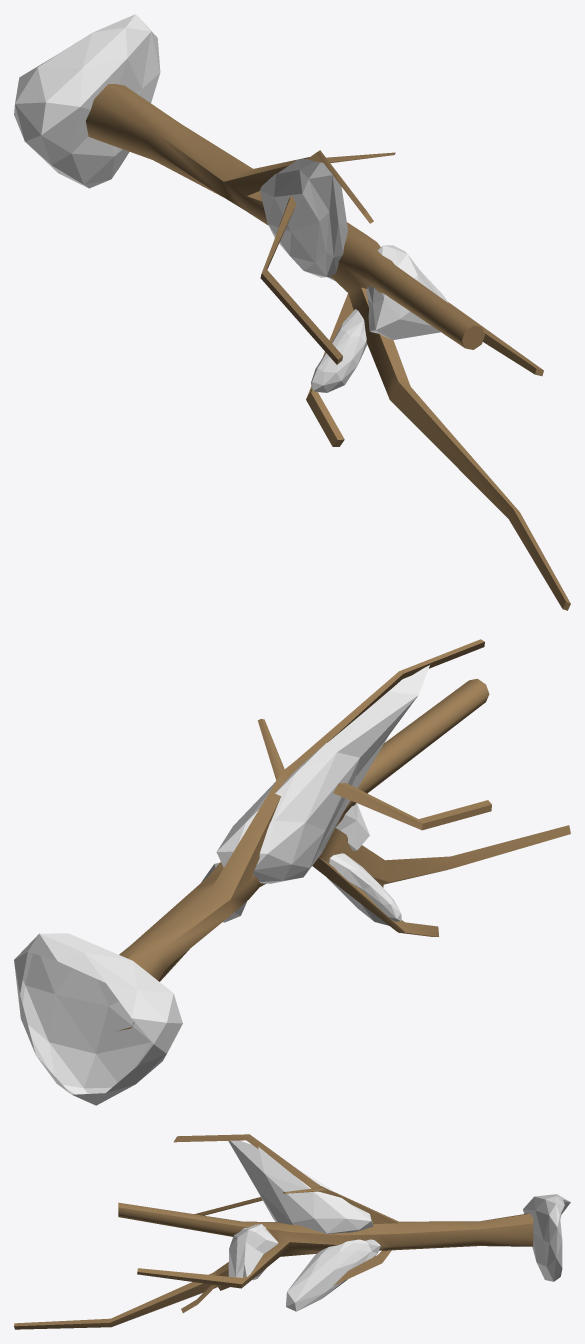
Rendered from tree-no-leaves-snow-1.glb.
3 views of the same model, one above another, from view 1: azimuth 30°, elevation 25°; view 2: azimuth 150°, elevation 25°; view 3: azimuth 270°, elevation 25° (orthographic). The views are drawn at different scales.
Parts seen in each view (by area): view 1: TreeWinter; view 2: TreeWinter; view 3: TreeWinter.
Boxes of the visible parts, bbox=[...] form: TreeWinter: bbox=[14, 14, 570, 610]; TreeWinter: bbox=[14, 639, 570, 1105]; TreeWinter: bbox=[14, 1134, 570, 1329].
Size of the model in its own units: 1.29 by 2.01 by 5.55.
